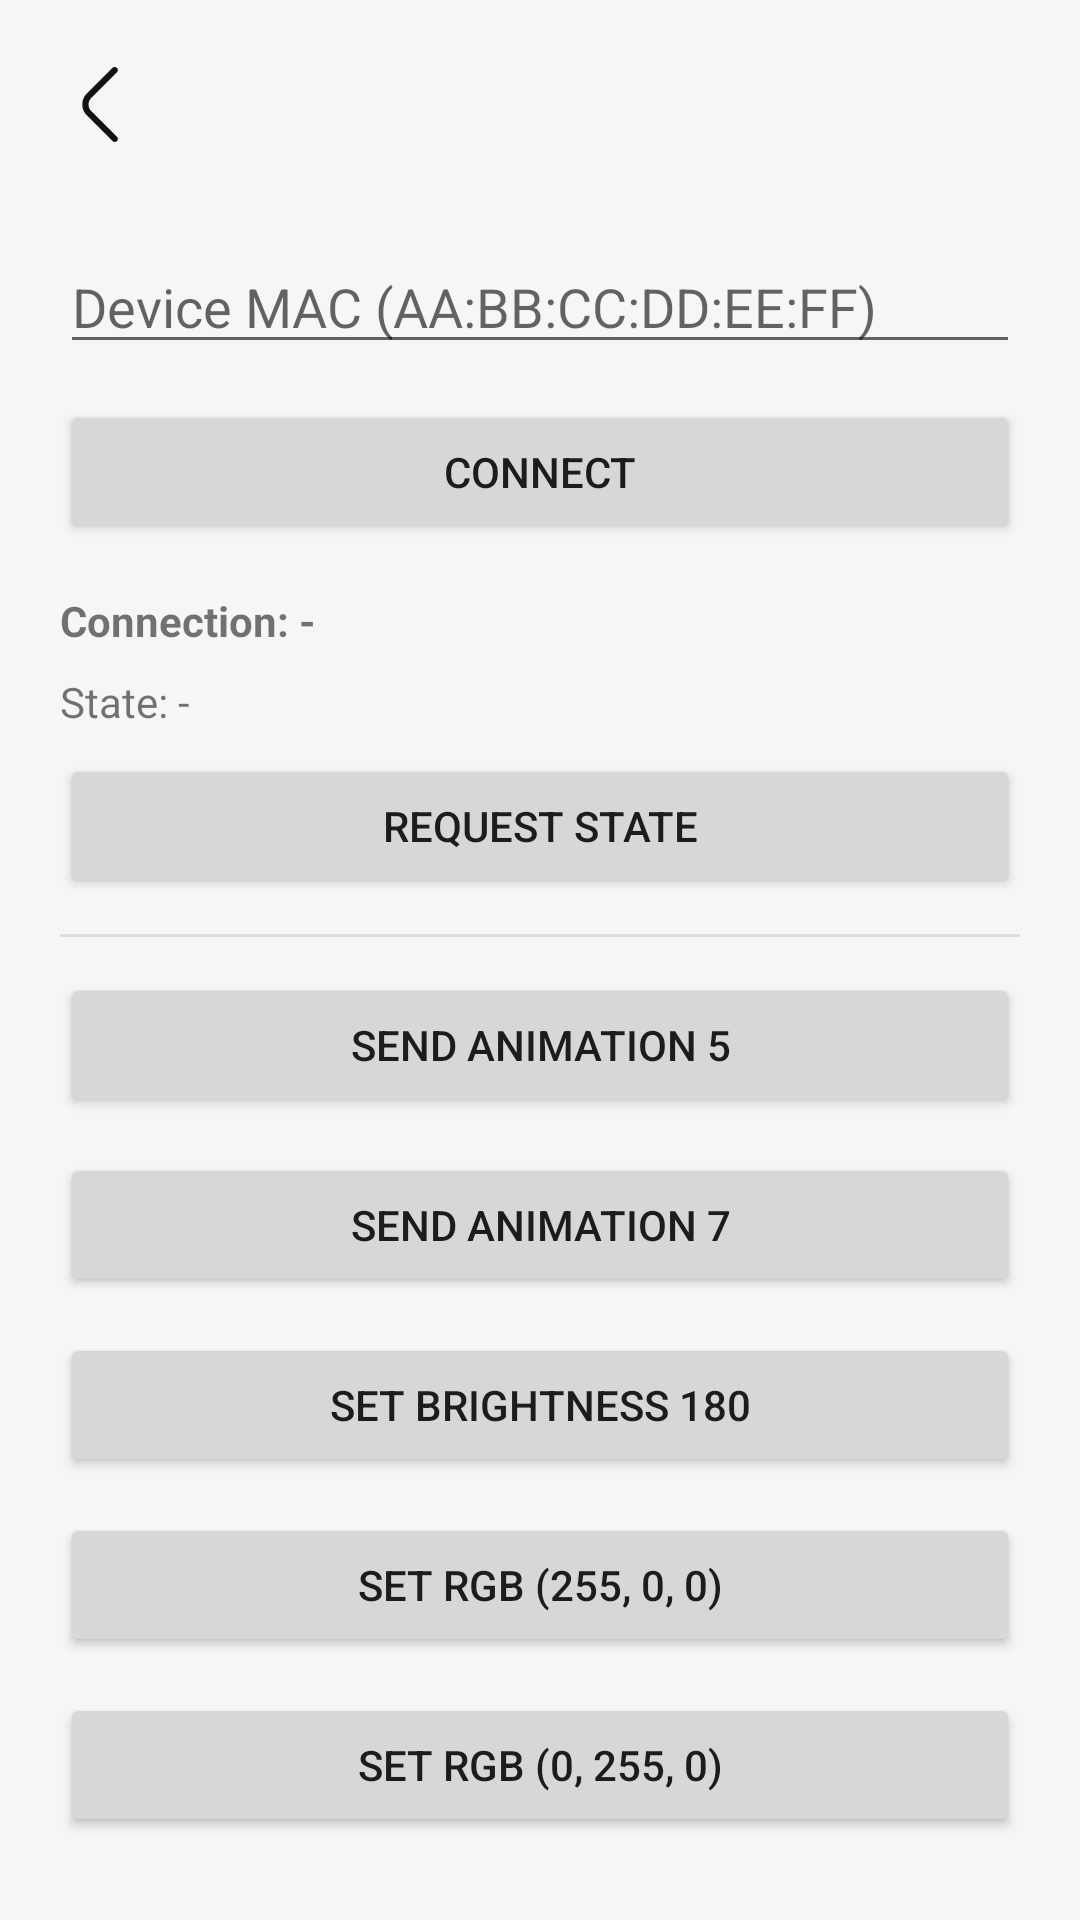

Point at icon controls on the screen. Image size 1080w x 1920h, points as (x=x, y=y).
Back Button: (x=100, y=104)
